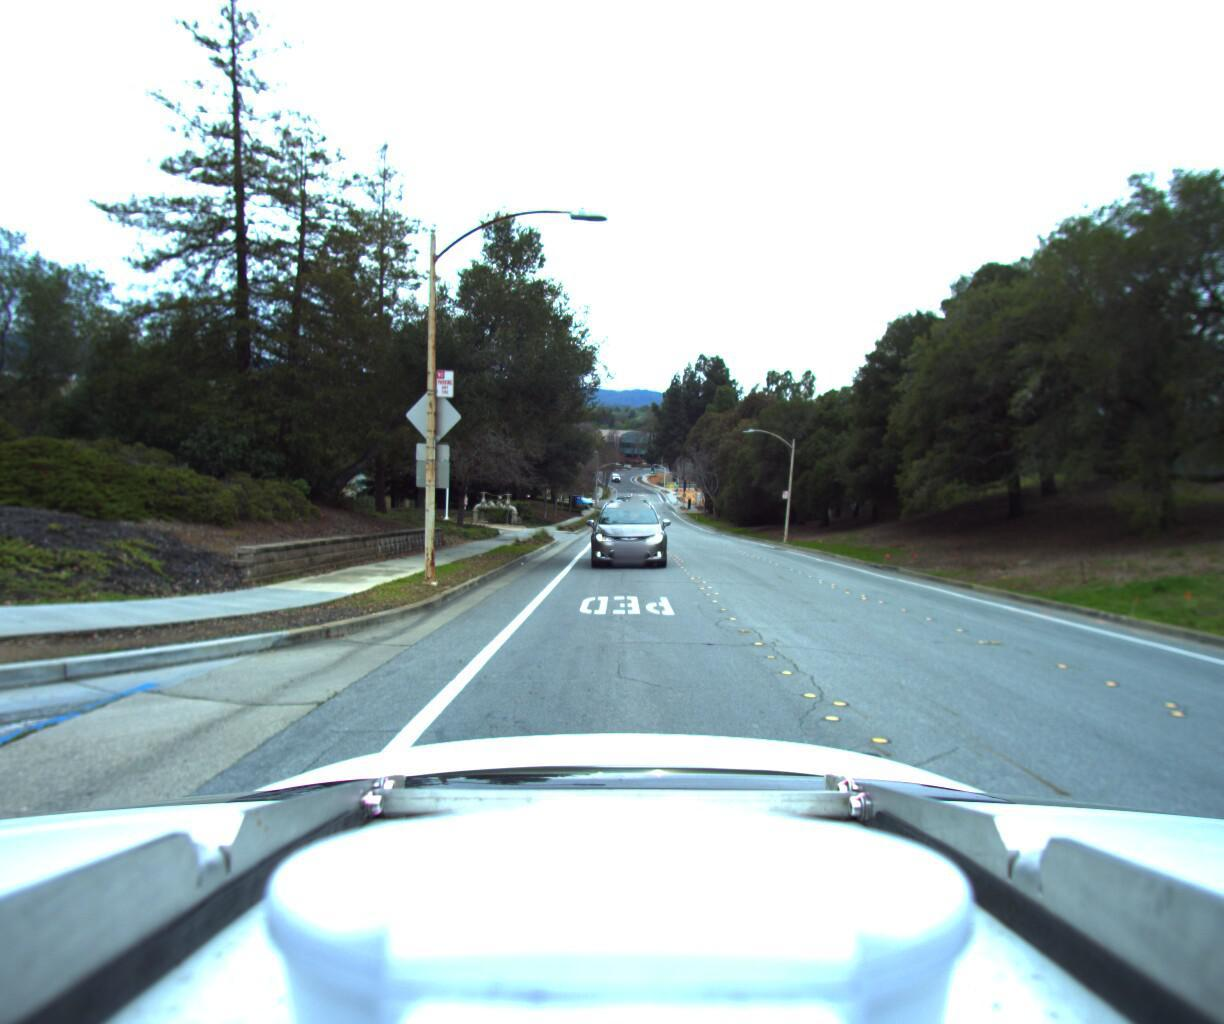car: (583, 488, 667, 578)
